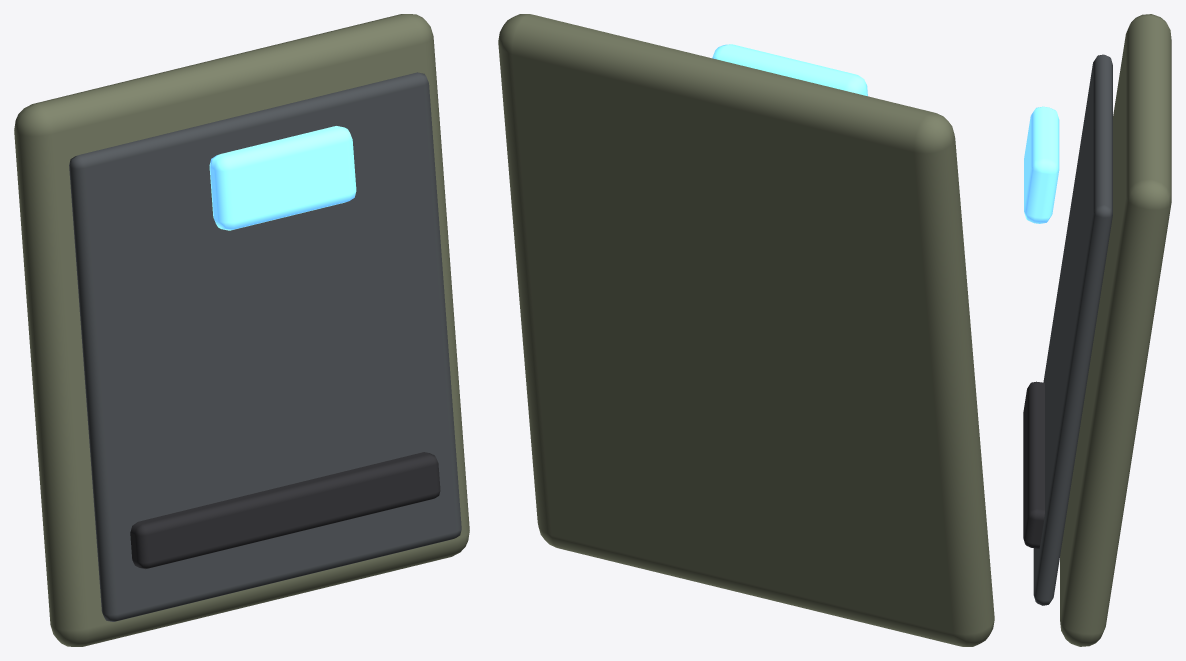
The model's file is battle-royale-town-and-airfield-armour-plate-f91ce68f__28222.glb.
The picture shows the model from 3 angles, left to right: view 1: azimuth 30°, elevation 25°; view 2: azimuth 150°, elevation 25°; view 3: azimuth 270°, elevation 25°; orthographic projection. The views are drawn at different scales.
Parts seen in each view (by area): view 1: armour-plate; view 2: armour-plate; view 3: armour-plate.
Part boxes in pixels (x1,y1,x2,y2): armour-plate: (14,14,469,646); armour-plate: (498,14,994,646); armour-plate: (1023,14,1171,646).
Bounding box in the file's own units: 0.3 × 0.3565 × 0.1028.
